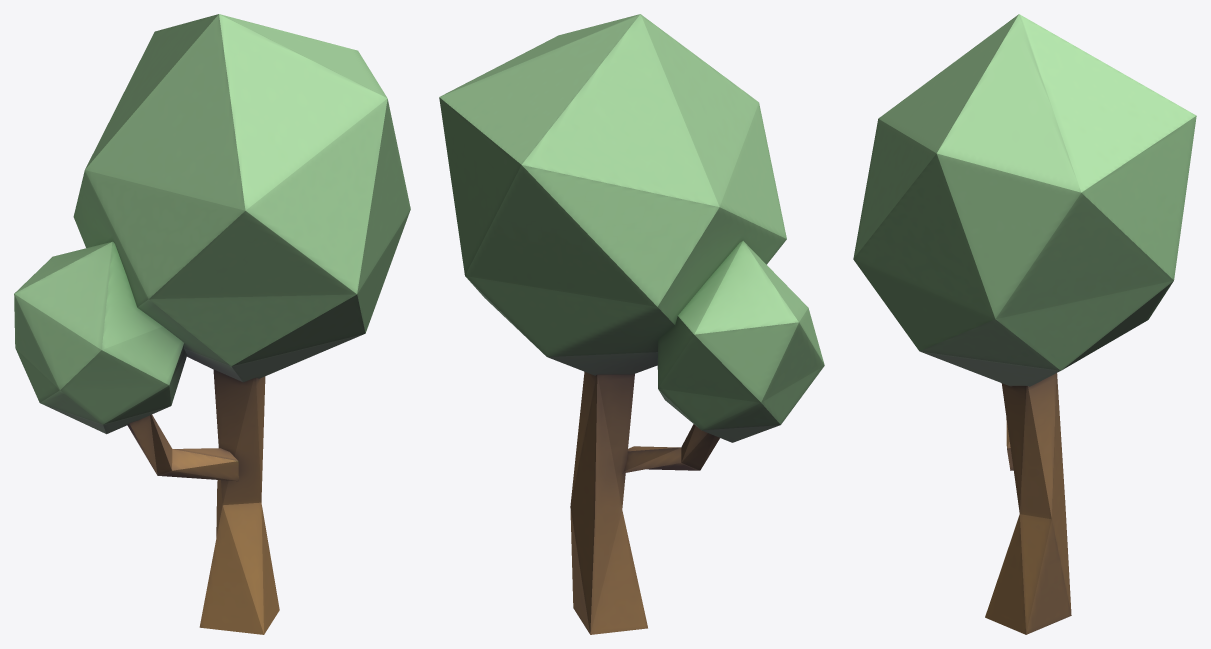
File: Foilage_Tree_D.fbx
3 views of the same model, side by side, from view 1: azimuth 30°, elevation 25°; view 2: azimuth 150°, elevation 25°; view 3: azimuth 270°, elevation 25° (orthographic). The views are drawn at different scales.
Parts seen in each view (by area): view 1: Foilage_Tree_D__4_; view 2: Foilage_Tree_D__4_; view 3: Foilage_Tree_D__4_.
Boxes of the visible parts, x1,y1,x2,y2 form: Foilage_Tree_D__4_: (14, 14, 410, 634); Foilage_Tree_D__4_: (439, 14, 824, 634); Foilage_Tree_D__4_: (853, 14, 1196, 634).
Size of the model in its own units: 523 by 847 by 446.
